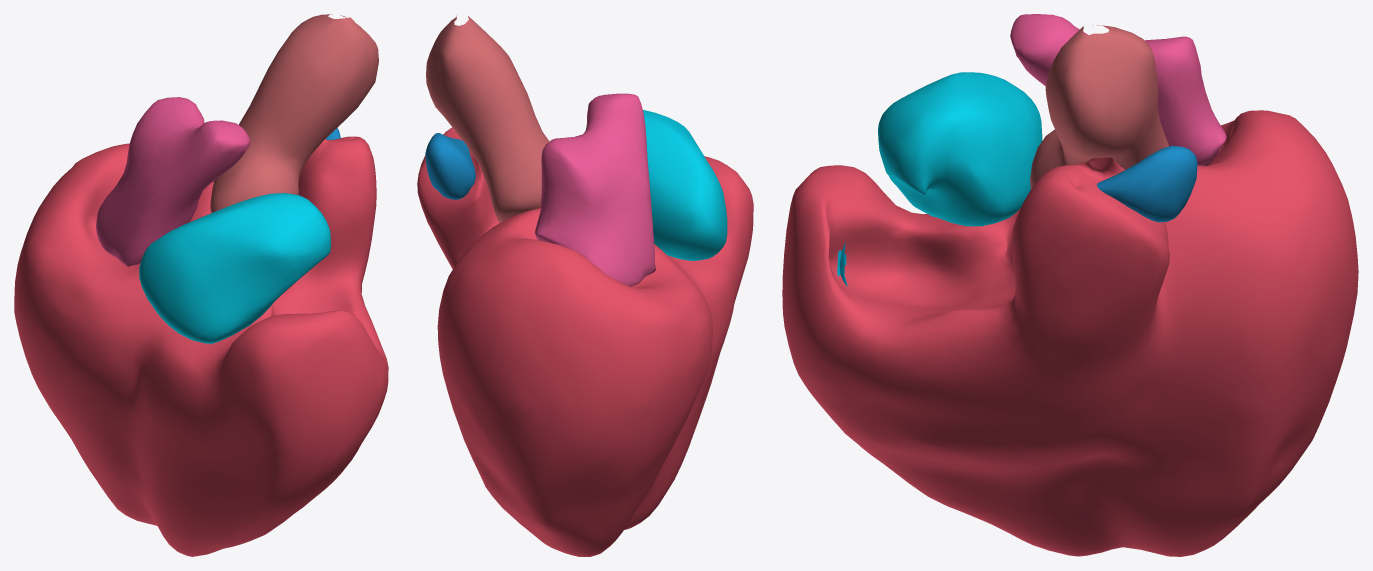
Rendered from frame_65.glb.
3 renders of one model, left to right at view 1: azimuth 30°, elevation 25°; view 2: azimuth 150°, elevation 25°; view 3: azimuth 270°, elevation 25°, orthographic. The views are drawn at different scales.
Visible parts, largest first — view 1: Renderer Node; view 2: Renderer Node; view 3: Renderer Node.
Boxes of the visible parts, left/top/right/bottom form: Renderer Node: left=14, top=14, right=388, bottom=556; Renderer Node: left=417, top=16, right=753, bottom=556; Renderer Node: left=782, top=14, right=1358, bottom=556.
Size of the model in its own units: 105 by 162 by 136.
